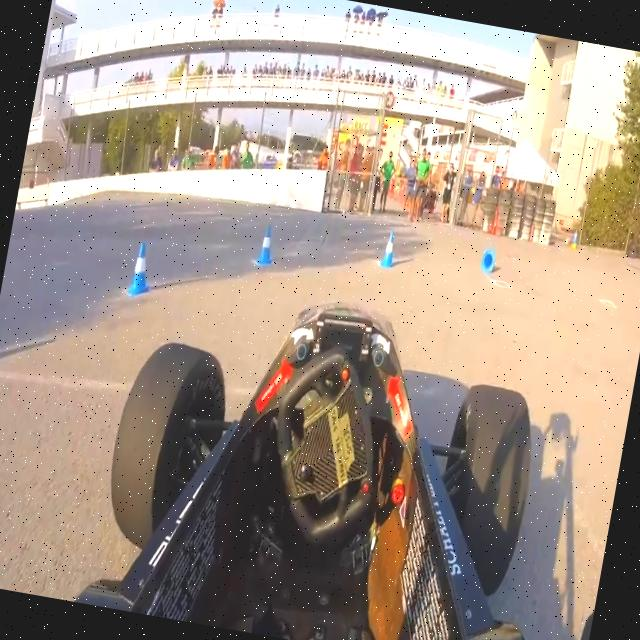blue_cone: (122, 236, 158, 300), (254, 220, 278, 268), (376, 224, 400, 270), (571, 228, 579, 243)
